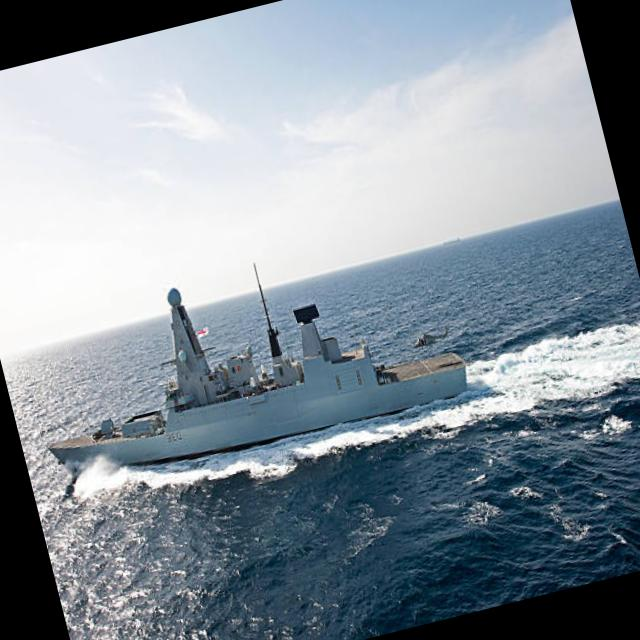Military: (47, 267, 468, 497)
